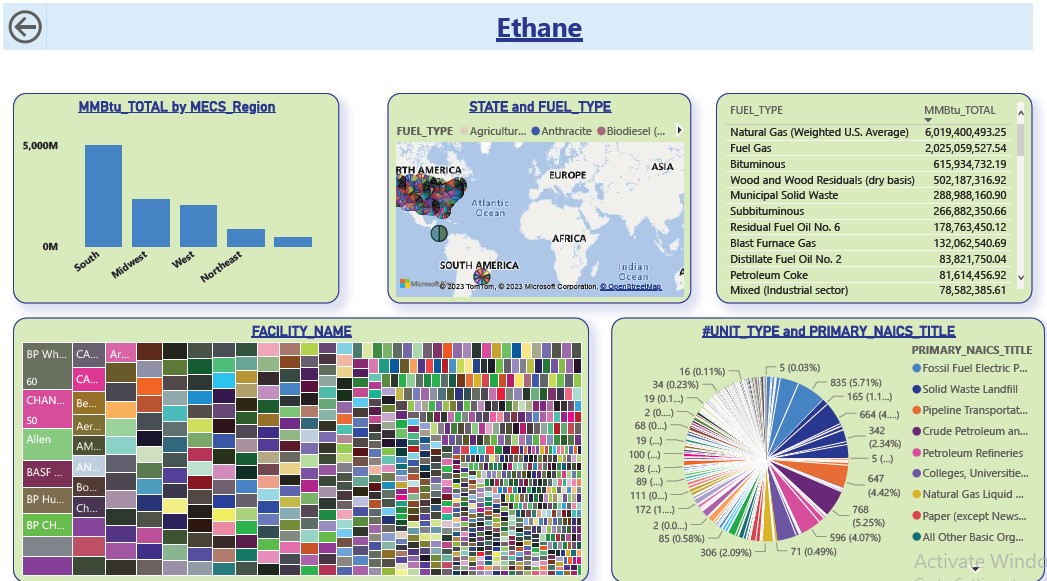

Layout of this report page (visuals, bound fields, positions):
{"tool":"powerbi","page":{"name":"ethane","canvas":[1280,720],"ordinal":1},"visuals":[{"type":"treemap","title":"FACILITY_NAME","fields":{"Details":["data_1.FACILITY_NAME"],"Values":["CountNonNull(data_1.FACILITY_ID)"]},"box":[11,377.4,691.6,318.4],"z":0},{"type":"pieChart","title":"#UNIT_TYPE and PRIMARY_NAICS_TITLE","fields":{"Category":["data_1.PRIMARY_NAICS_TITLE"],"Series":["data_1.UNIT_TYPE"],"Y":["CountNonNull(data_1.FUEL_TYPE)"]},"box":[730,377.4,521.4,318.4],"z":1000},{"type":"clusteredColumnChart","fields":{"Category":["data_1.MECS_Region"],"Y":["Sum(data_1.MMBtu_TOTAL)"]},"box":[11,107,392.5,252.5],"z":2000},{"type":"textbox","box":[50.8,0,1185.3,54.9],"z":3000},{"type":"actionButton","box":[0,0,50.8,54.9],"z":4000},{"type":"map","fields":{"Category":["data_1.STATE"],"Series":["data_1.FUEL_TYPE"]},"box":[461.1,107,365,252.5],"z":5000},{"type":"tableEx","fields":{"Values":["data_1.FUEL_TYPE","Sum(data_1.MMBtu_TOTAL)"]},"box":[856.3,107,380.1,252.5],"z":6000}]}

Visuals, with their boxes in screenshot pixels (x1, y1, x2, y2), scaled from the page's 1280x720 canvas onto the 1047x581 screenshot:
"FACILITY_NAME" treemap: 9 305 575 561
"#UNIT_TYPE and PRIMARY_NAICS_TITLE" pieChart: 597 305 1024 561
clusteredColumnChart - data_1.MECS_Region x Sum(data_1.MMBtu_TOTAL): 9 86 330 290
textbox: 42 0 1011 44
actionButton: 0 0 42 44
map - data_1.STATE x data_1.FUEL_TYPE: 377 86 676 290
tableEx - data_1.FUEL_TYPE x Sum(data_1.MMBtu_TOTAL): 700 86 1011 290
